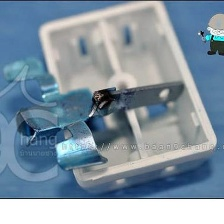three_eye_plug: (1, 0, 220, 195)
